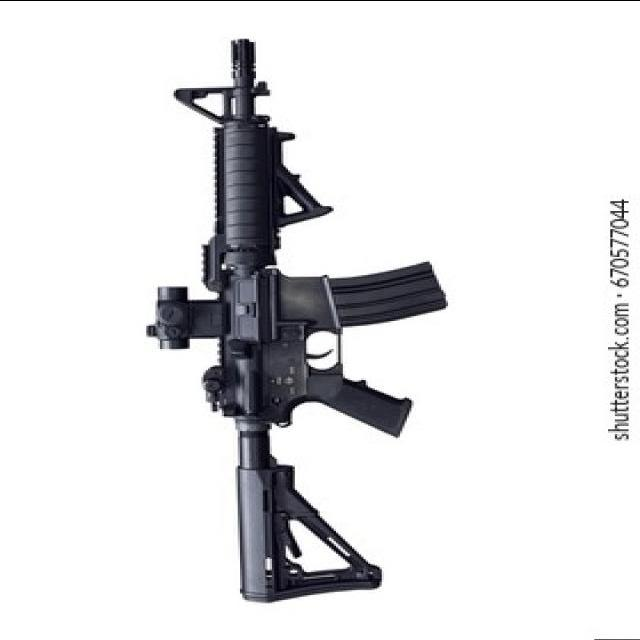rifle: (140, 39, 462, 609)
scope: (137, 270, 221, 359)
